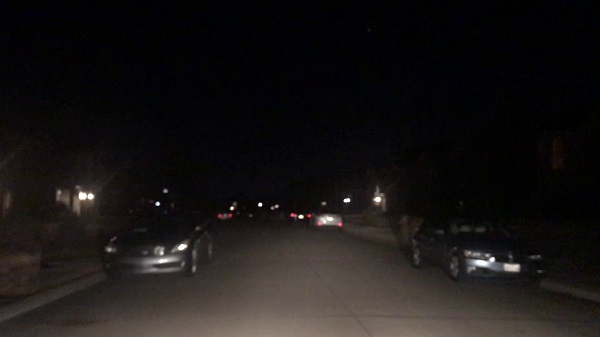car: (406, 204, 548, 286), (101, 212, 219, 279), (311, 207, 345, 230), (214, 202, 241, 222), (285, 204, 312, 223)
